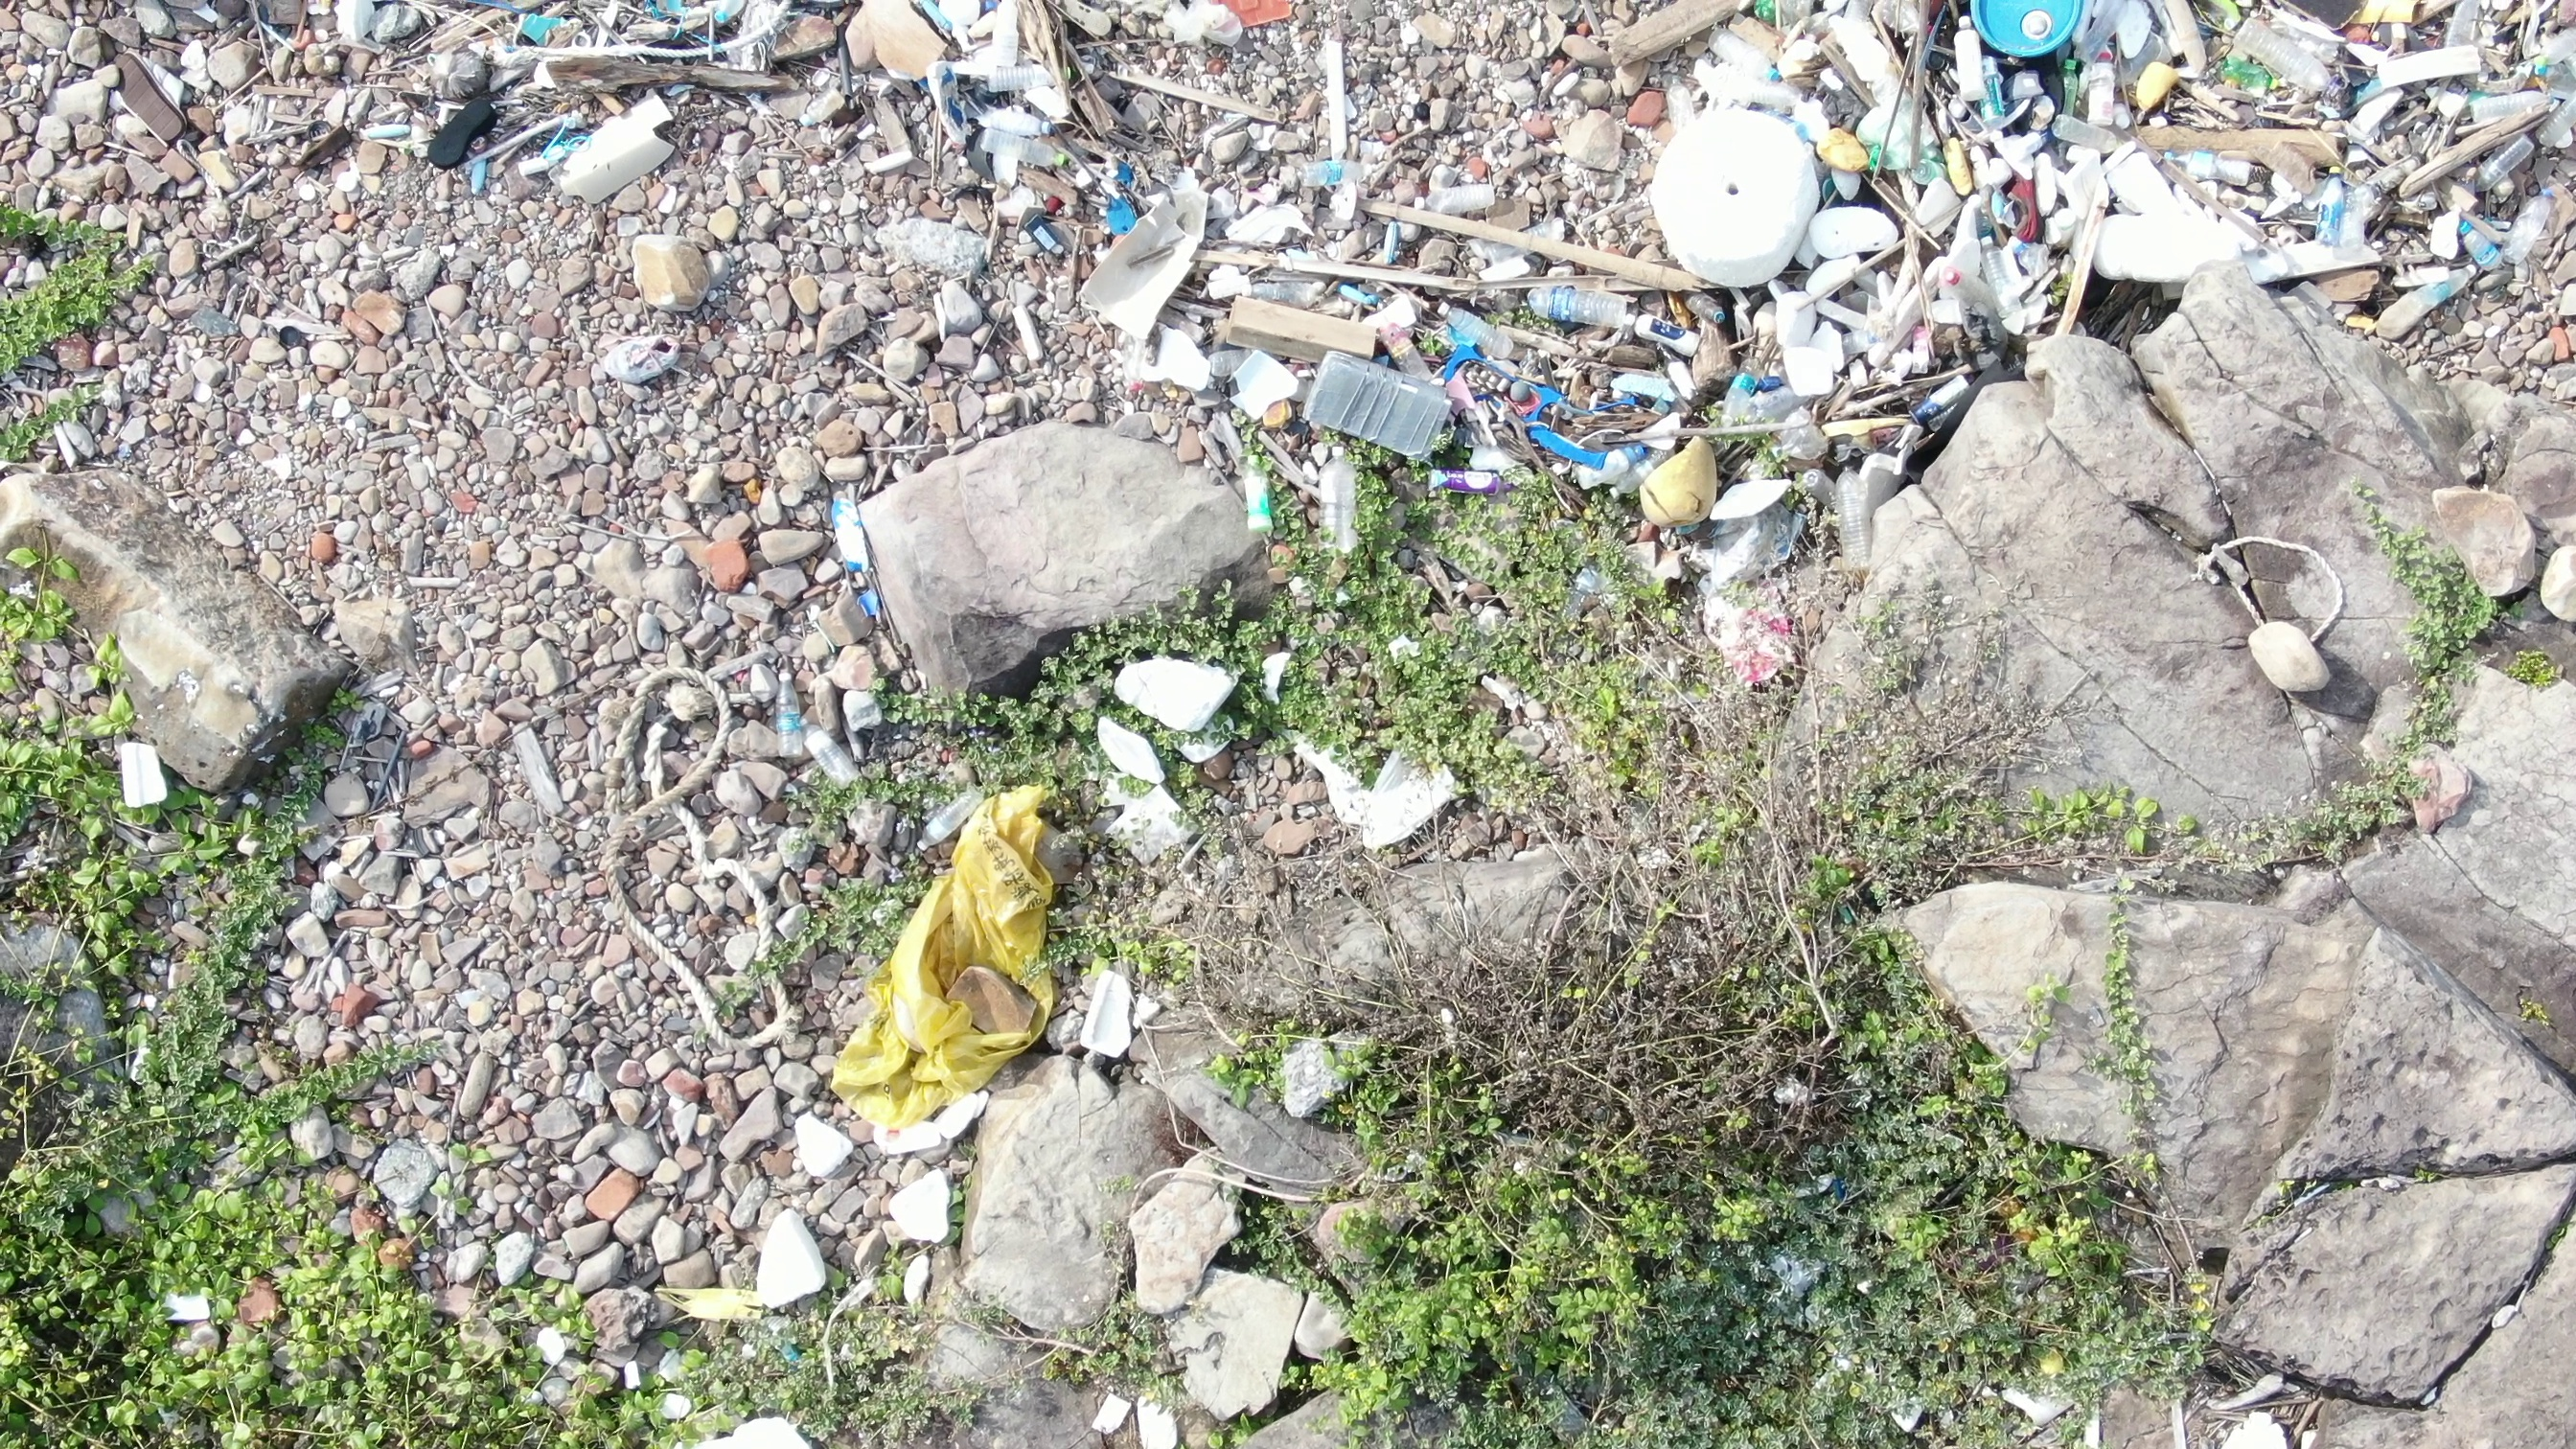bottle: (1711, 357, 1840, 455), (1514, 274, 1647, 338), (764, 648, 826, 754), (1269, 142, 1380, 198), (2429, 193, 2505, 271), (1315, 432, 1355, 568), (2466, 131, 2544, 200), (1231, 446, 1286, 541), (2302, 165, 2364, 242)
garbage: (1658, 2, 2558, 349), (1088, 179, 1798, 533), (232, 2, 1265, 235), (832, 782, 1081, 1139), (1667, 354, 2015, 476), (768, 483, 890, 761), (2190, 524, 2348, 708), (1093, 642, 1228, 780), (103, 734, 177, 819)
